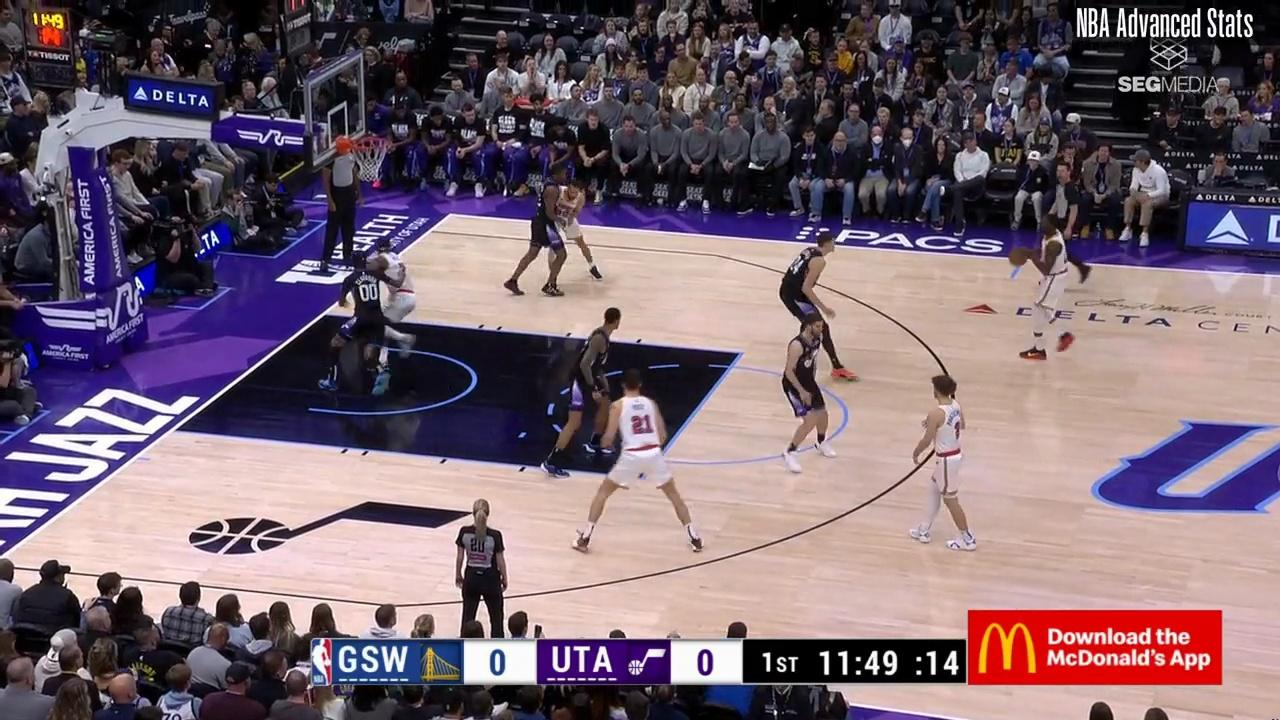basketball: (1006, 247, 1028, 267)
